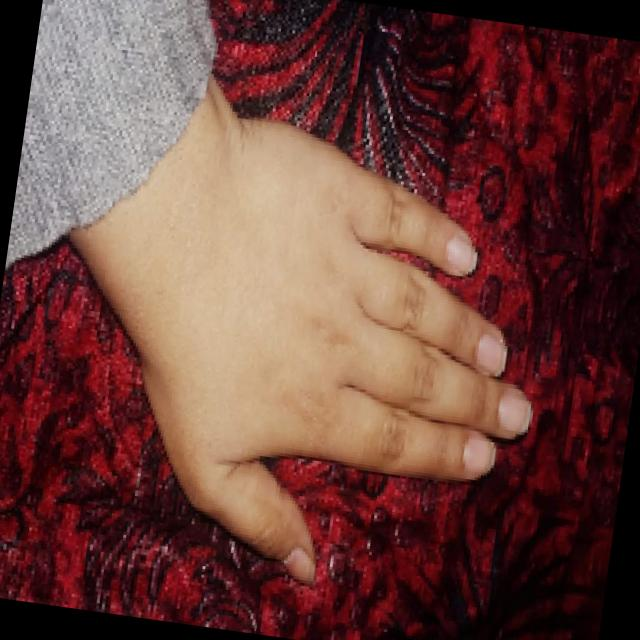Nail: (474, 335, 506, 376), (496, 398, 531, 433), (461, 439, 495, 474), (282, 546, 314, 583), (444, 239, 476, 275)
